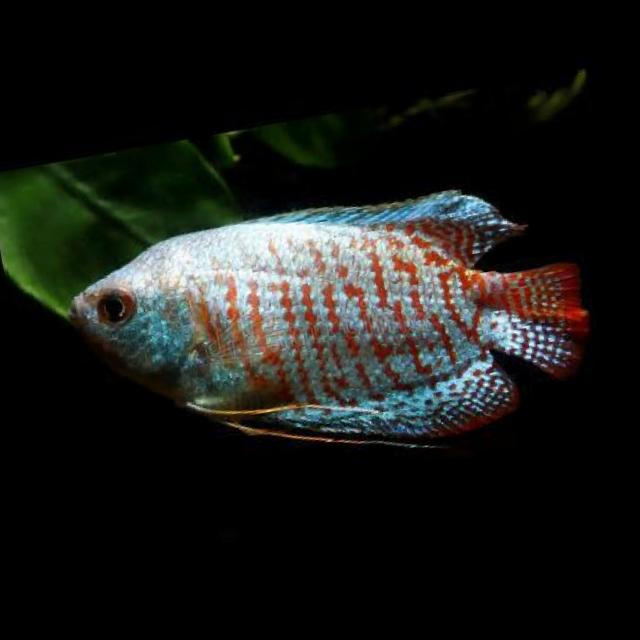Gourami: (49, 148, 603, 490)
